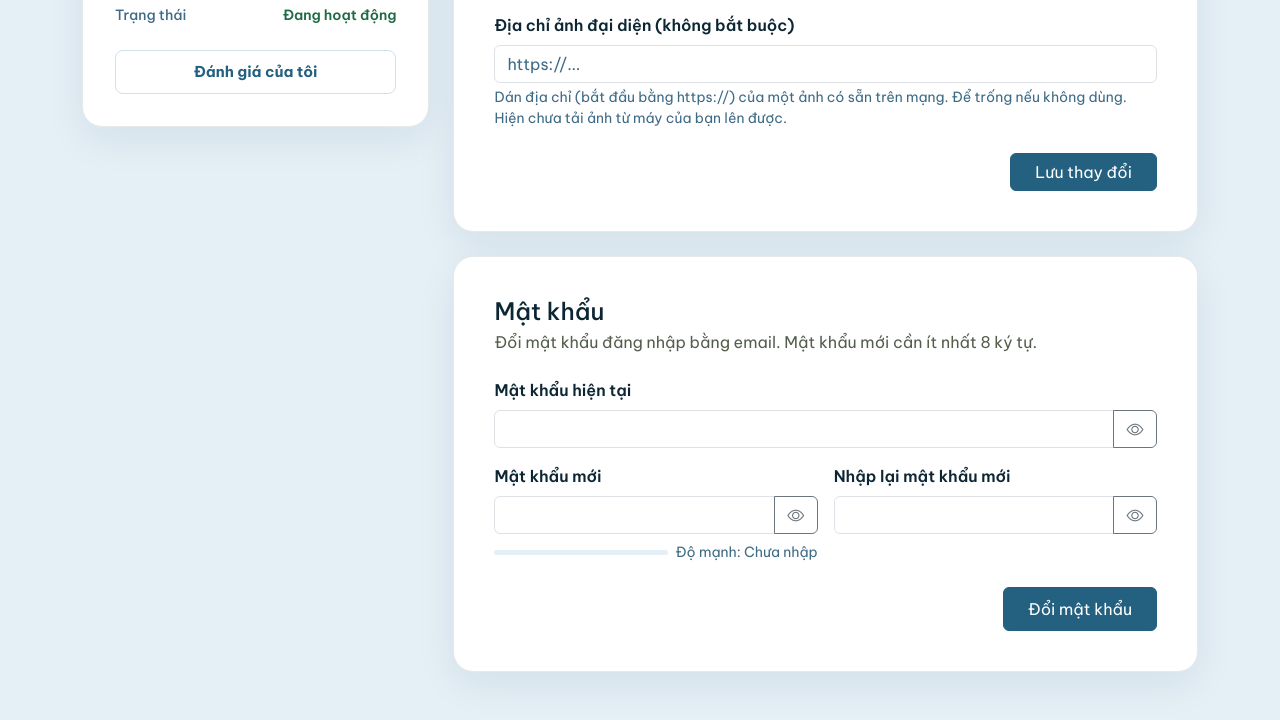
it: ProfileView: khung mật khẩu › báo lỗi khi nhập lại không khớp hoặc mật khẩu quá ngắn, không gọi API
(page scrolled)
Type "MatKhauCu123" into the password field with id "current-password".
click(804, 429); type("MatKhauCu123")  # box [494, 410, 1114, 448]
Type "MatKhauMoi456" into the password field with id "new-password".
click(635, 515); type("MatKhauMoi456")  # box [494, 496, 775, 534]
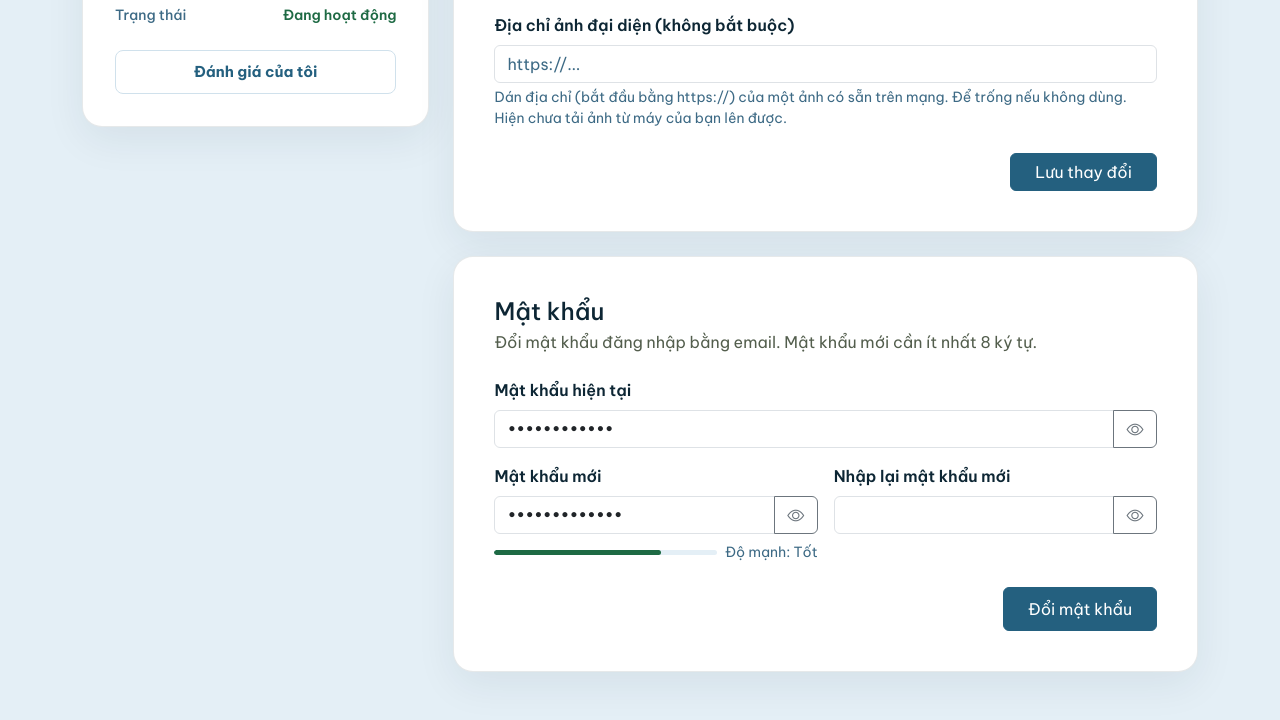
Type "MatKhauKhac789" into the password field with id "new-password-confirmation".
click(974, 515); type("MatKhauKhac789")  # box [834, 496, 1114, 534]
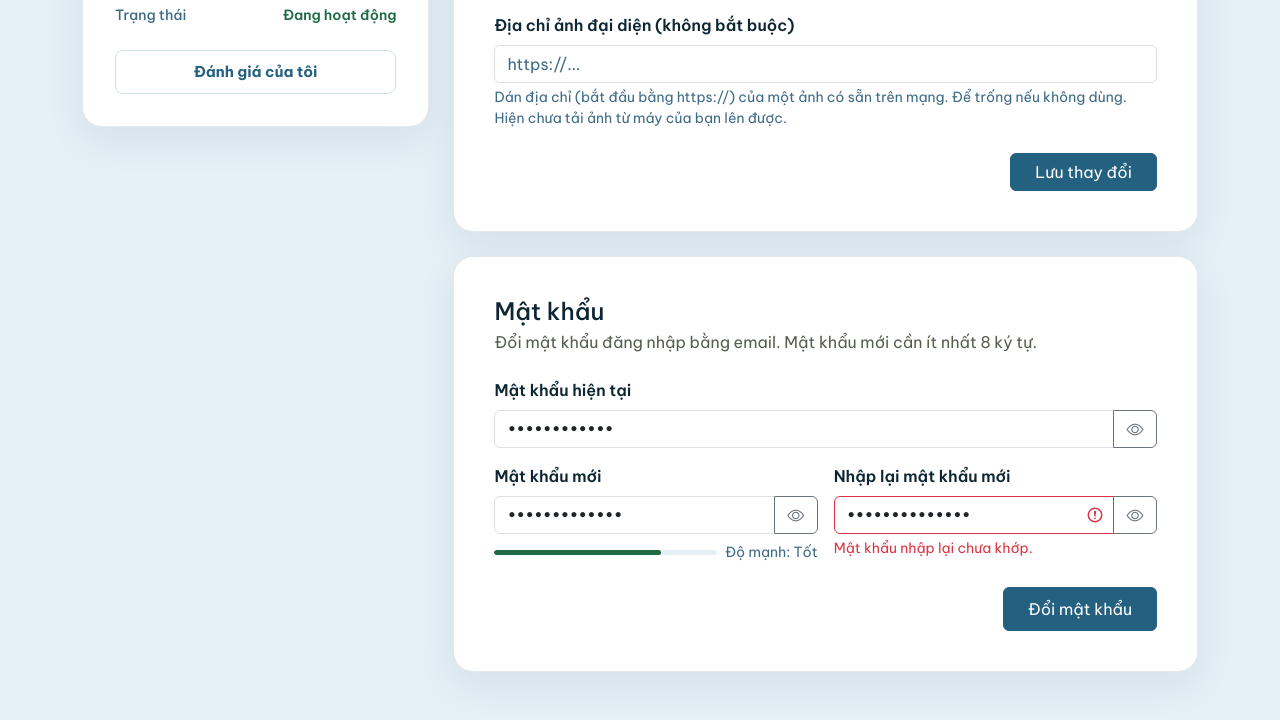
Result: the password field with id "new-password-confirmation" is marked as invalid at [834, 496, 1114, 534]
Submit the form that starts with "Mật khẩu hiện tại", box [494, 378, 1157, 631]
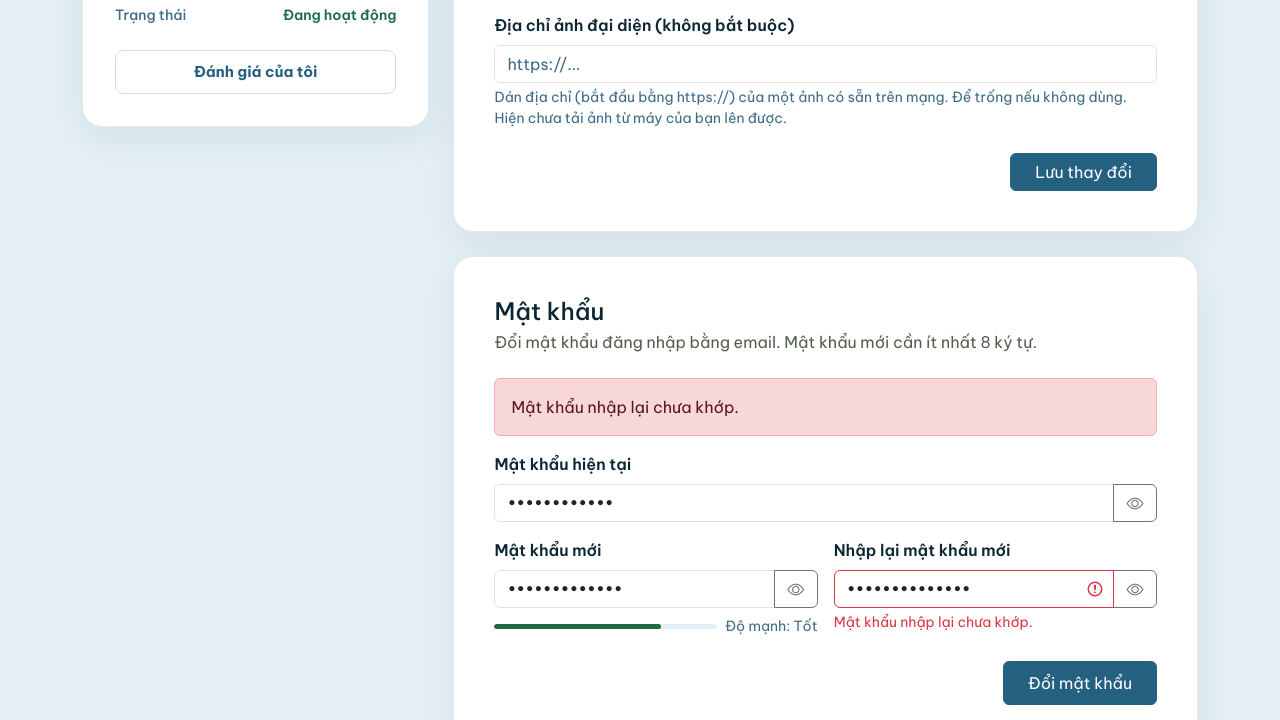
Result: the message "Mật khẩu nhập lại chưa khớp." is shown at [494, 378, 1157, 436]
Type "ngan" into the password field with id "new-password".
click(635, 589); type("ngan")  # box [494, 570, 775, 608]
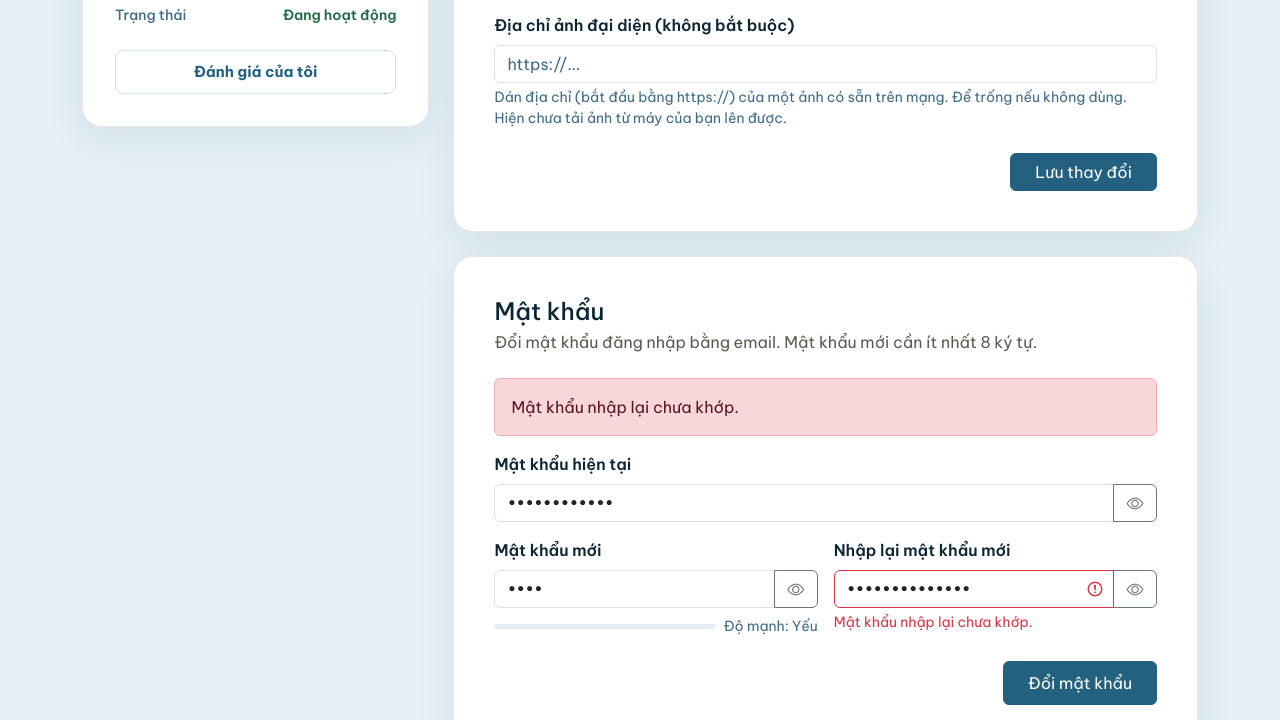
Type "ngan" into the password field with id "new-password-confirmation".
click(974, 589); type("ngan")  # box [834, 570, 1114, 608]
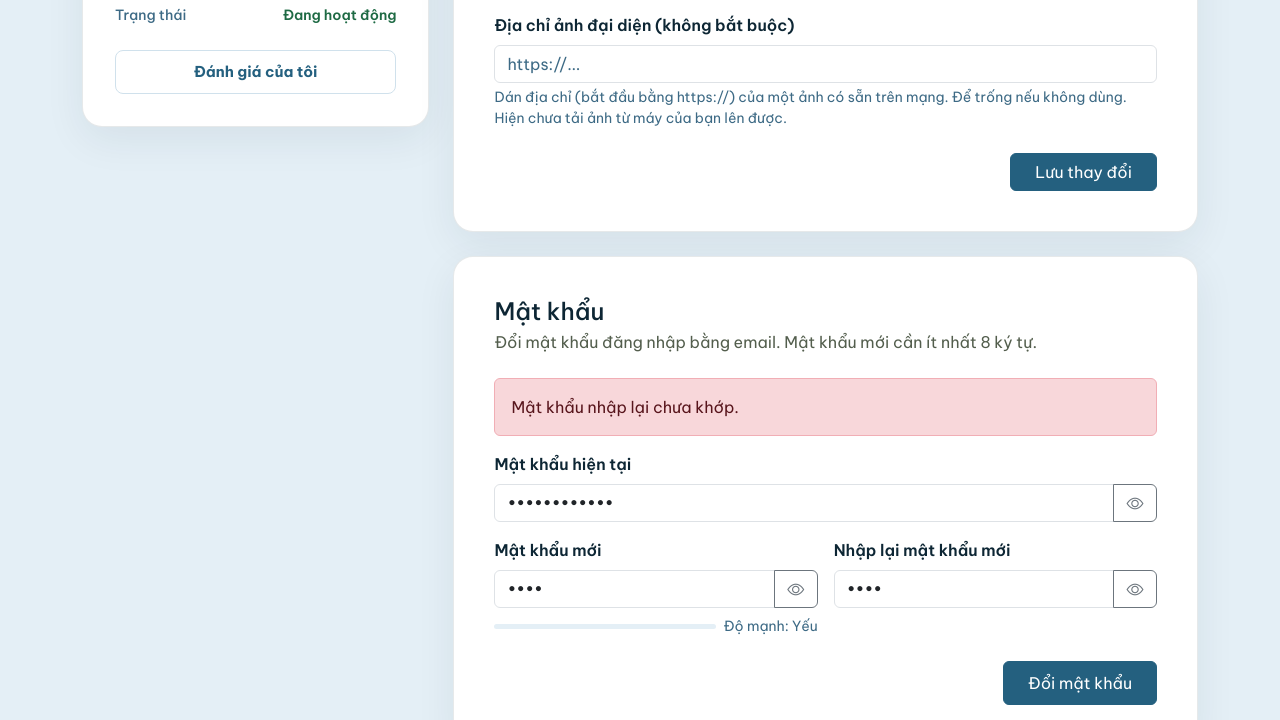
Submit the form that starts with "Mật khẩu nhập lại chưa khớp.", box [494, 378, 1157, 705]
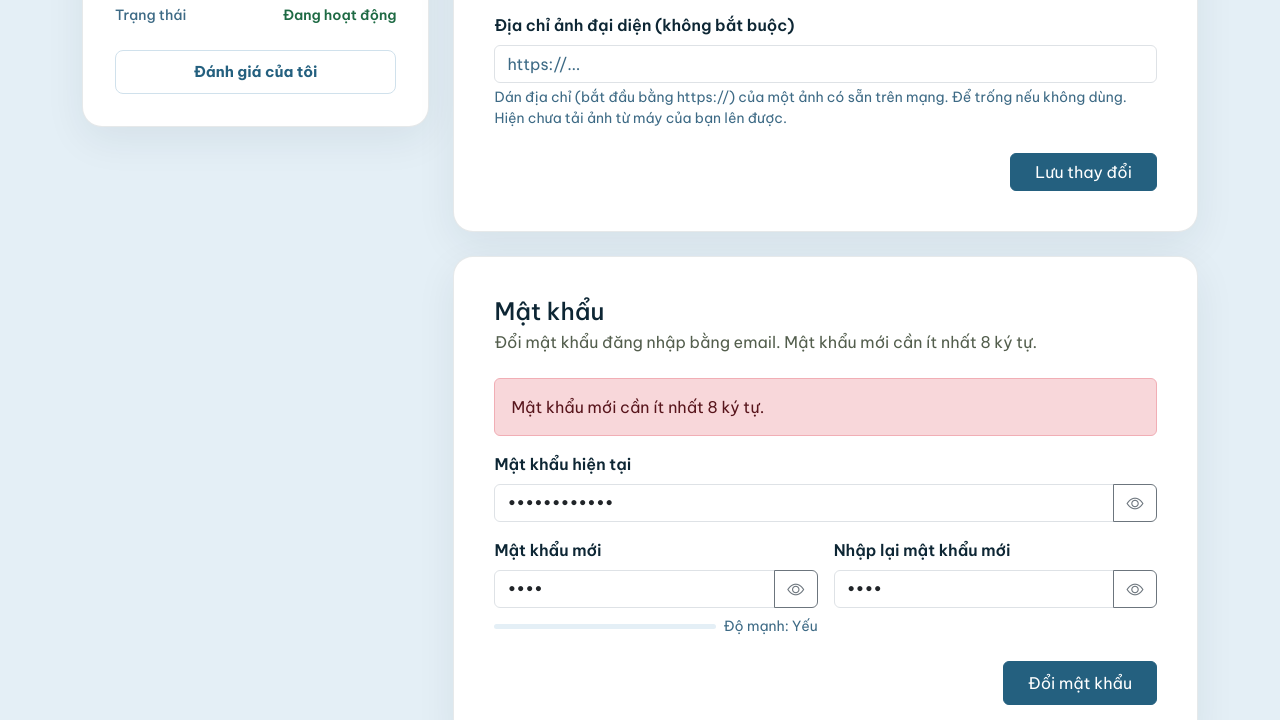
Result: the message "Mật khẩu mới cần ít nhất 8 ký tự." is shown at [494, 378, 1157, 436]
